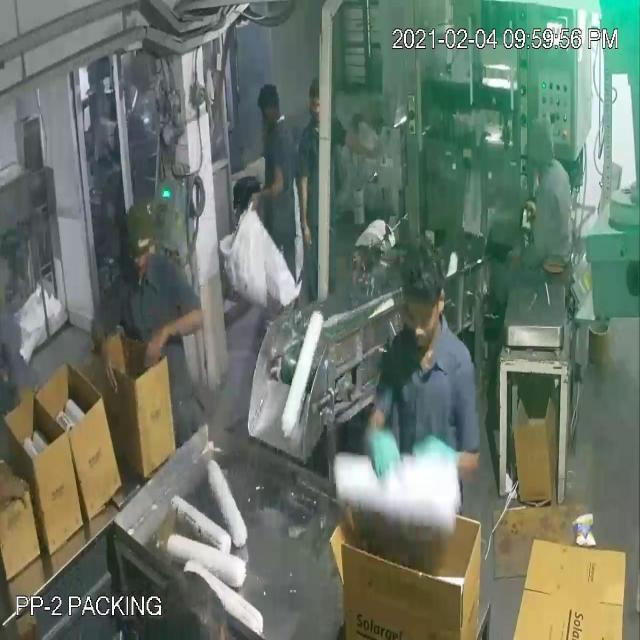No_Gloves: (18, 58, 448, 493)
